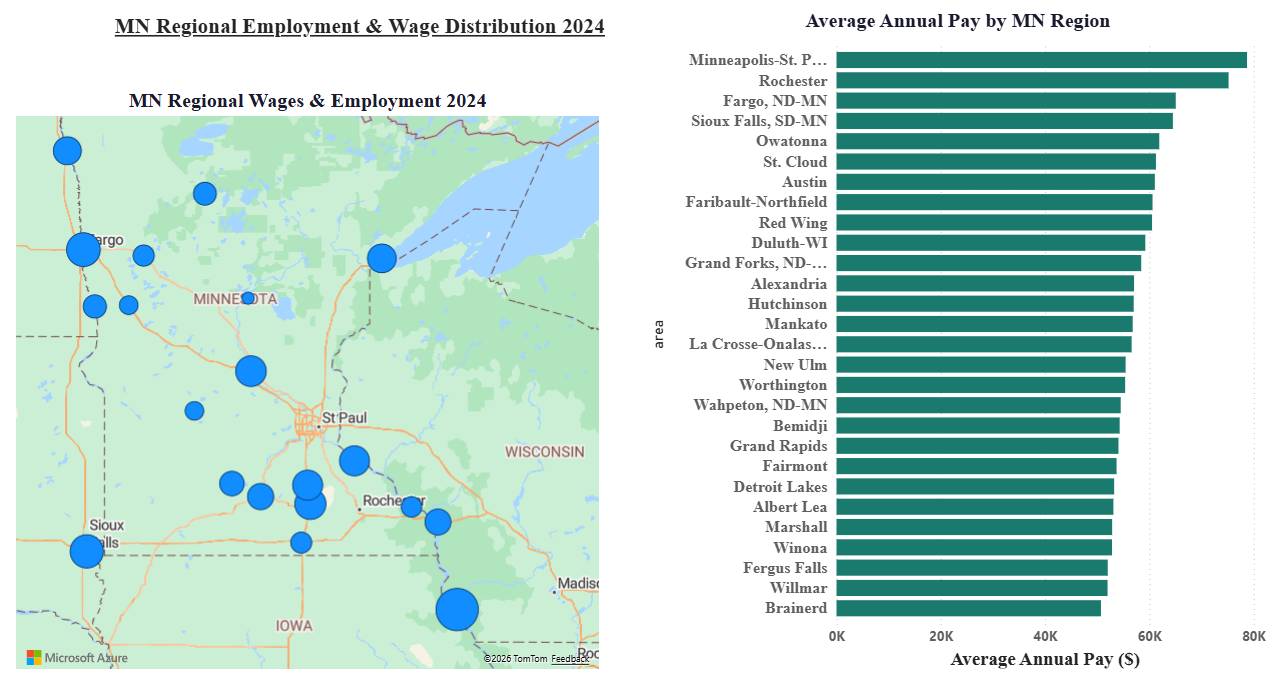

This screenshot's page, from the dashboard's own definition file:
{"tool":"powerbi","page":{"name":"Q5. Regional Wages","canvas":[1280,720],"ordinal":4},"visuals":[{"type":"azureMap","title":"MN Regional Wages & Employment 2024","fields":{"Category":["qcew_mn.area"],"Size":["Sum(qcew_mn.avg_annual_pay)"]},"box":[11.4,105.2,590.2,581.7],"z":0},{"type":"clusteredBarChart","title":"Average Annual Pay by MN Region","fields":{"Category":["qcew_mn.area"],"Y":["Sum(qcew_mn.avg_annual_pay)"]},"box":[641.4,25.6,622.9,661.3],"z":1000},{"type":"textbox","box":[75.4,25.6,564.6,64],"z":2000}]}

Visuals, with their boxes on the page's 1280x720 design canvas (x1, y1, x2, y2). These are canvas units, not pixel positions in the 1285x698 screenshot, which may show the page scaled, cropped or inside an application window:
"MN Regional Wages & Employment 2024" azureMap: [x1=11, y1=105, x2=602, y2=687]
"Average Annual Pay by MN Region" clusteredBarChart: [x1=641, y1=26, x2=1264, y2=687]
textbox: [x1=75, y1=26, x2=640, y2=90]
